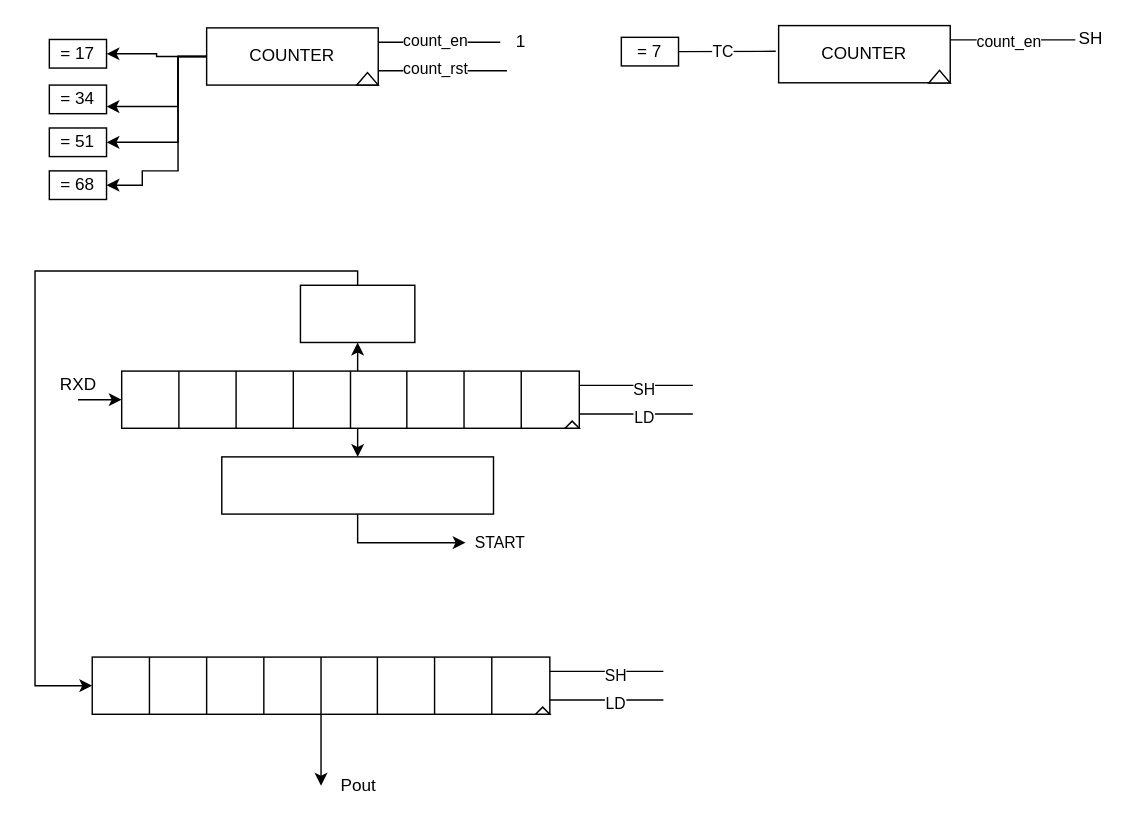
Image size: 1135x825. Some labels were removed from this diagram. Here are the shapes that lost their labels. From the top down, the centre of each, then its label:
At point 357,313: "VOTER".
At point 356,484: "START DETECTOR".
